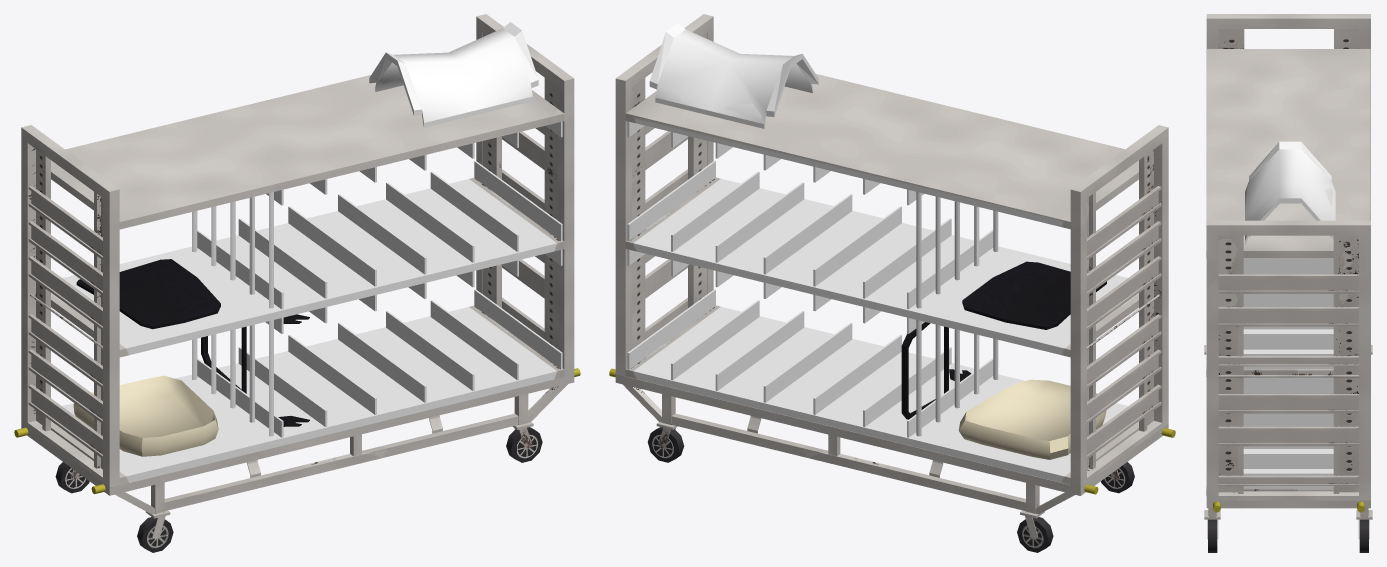
File: yunshu05.FBX
3 views of the same model, side by side, from view 1: azimuth 30°, elevation 25°; view 2: azimuth 150°, elevation 25°; view 3: azimuth 270°, elevation 25° (orthographic). The views are drawn at different scales.
Parts seen in each view (by area): view 1: YF_Model_yunshu05; view 2: YF_Model_yunshu05; view 3: YF_Model_yunshu05.
Part boxes in pixels (x1,y1,x2,y2): YF_Model_yunshu05: (14,14,580,552); YF_Model_yunshu05: (609,14,1175,552); YF_Model_yunshu05: (1204,14,1372,552).
Bounding box in the file's own units: 146 × 114 × 47.11.
